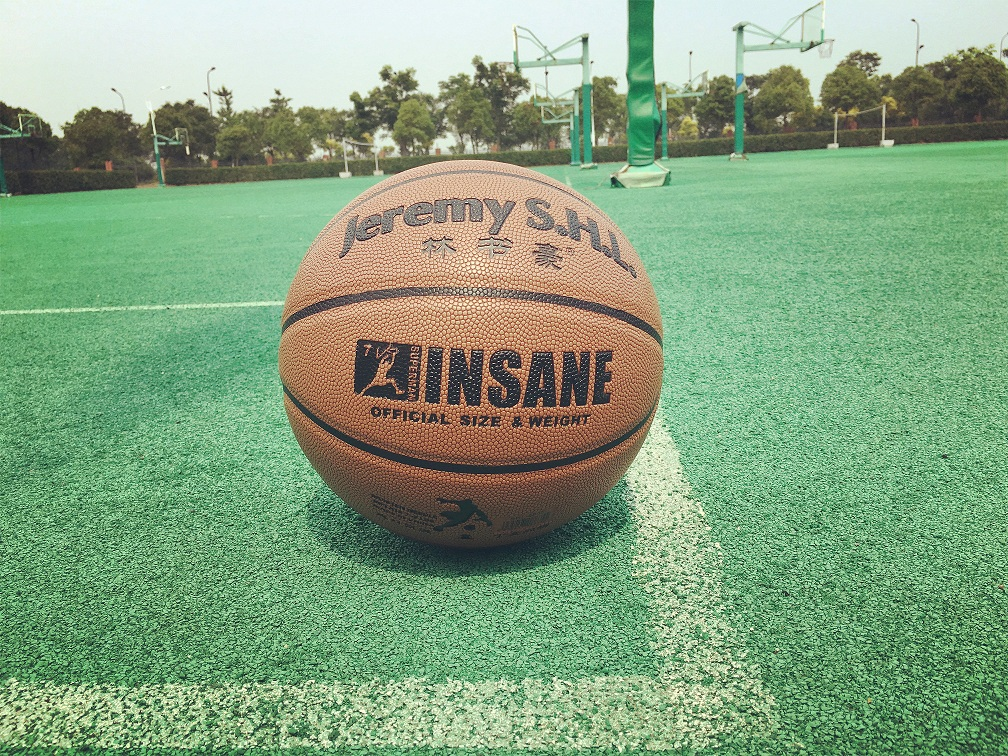ball: (278, 158, 665, 551)
